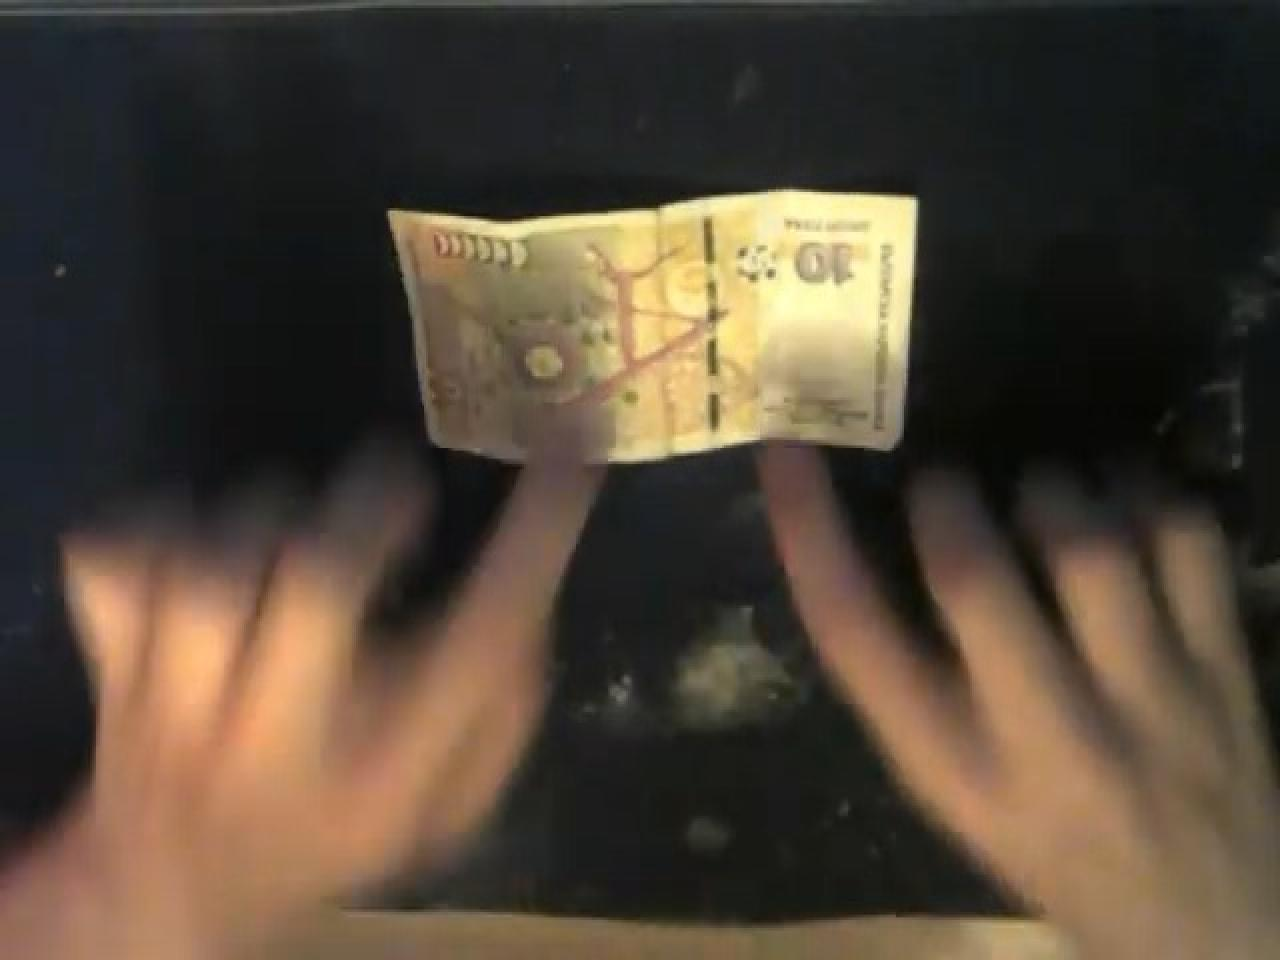10leva: (388, 182, 920, 467)
